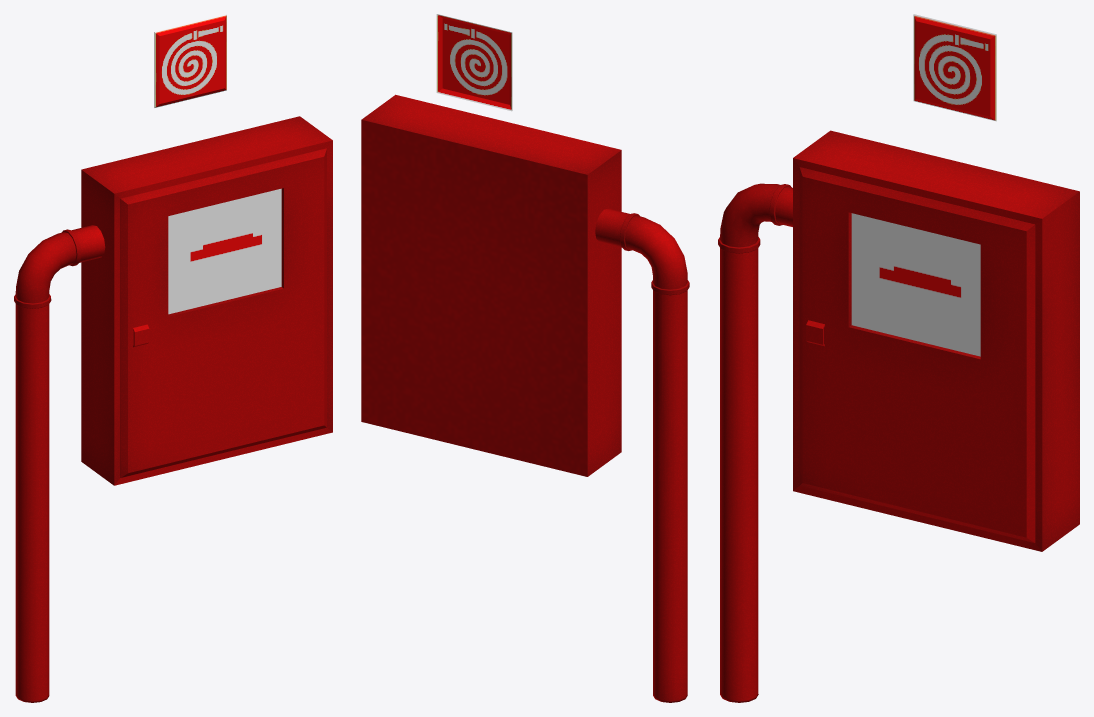
Rendered from 2Caixa_M-I.fbx.
3 views of the same model, side by side, from view 1: azimuth 30°, elevation 25°; view 2: azimuth 150°, elevation 25°; view 3: azimuth 330°, elevation 25° (orthographic). The views are drawn at different scales.
Visible parts, largest first — view 1: caixa; view 2: caixa; view 3: caixa.
Boxes of the visible parts, x1,y1,x2,y2 form: caixa: (14,14,332,702); caixa: (361,14,689,702); caixa: (718,14,1079,702).
Bounding box in the file's own units: 103 × 203 × 22.26.
Materials: 2 (2 with a texture image).
